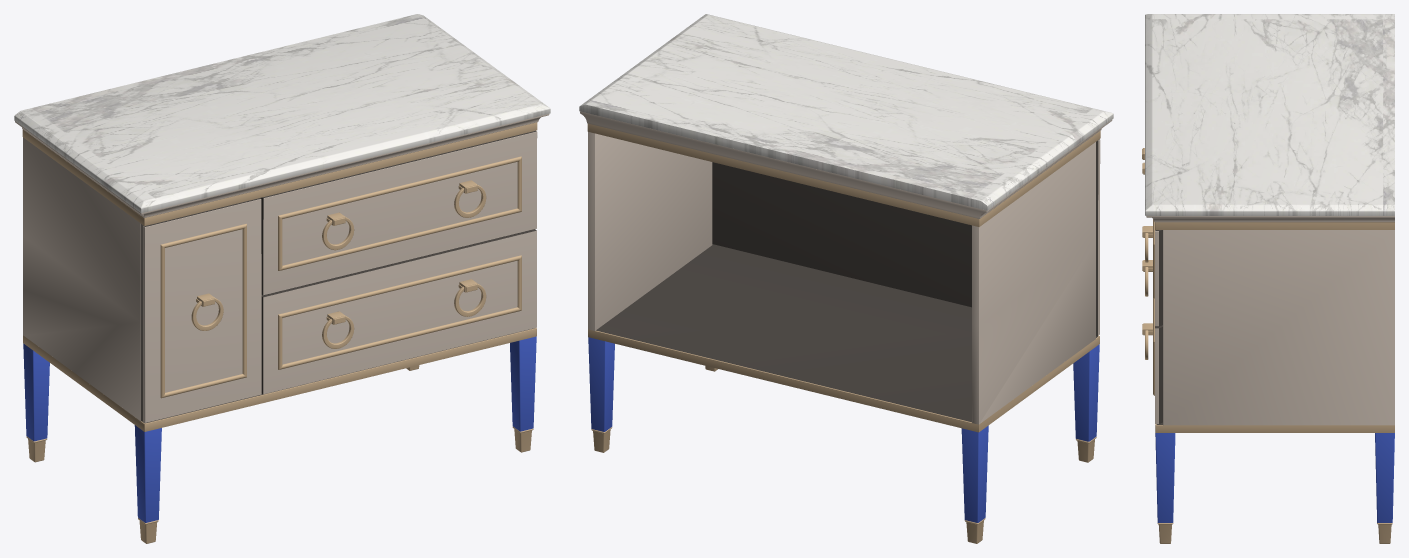
3 views of the same model, side by side, from view 1: azimuth 30°, elevation 25°; view 2: azimuth 150°, elevation 25°; view 3: azimuth 270°, elevation 25° (orthographic).
Parts seen in each view (by area): view 1: AV06; view 2: AV06; view 3: AV06.
Part boxes in pixels (left/top/right/bottom): AV06: left=14, top=14, right=550, bottom=543; AV06: left=579, top=14, right=1113, bottom=543; AV06: left=1142, top=14, right=1394, bottom=543.
Bounding box in the file's own units: 1.04 × 0.847 × 0.567.
Materials: 5 (2 with a texture image).
